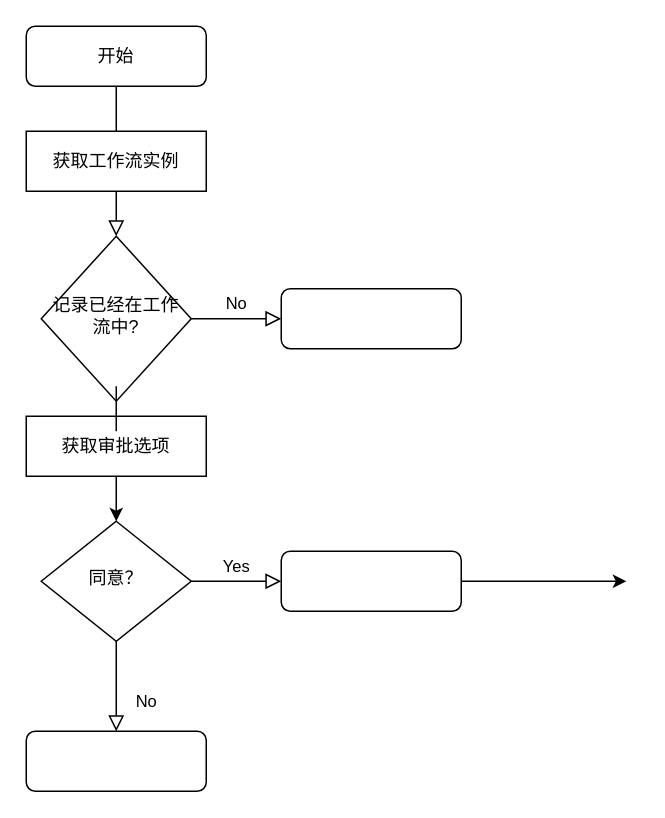
Some shapes in this 665 by 818 pixel diagram are drawn without their labels. Each missing label, with the box of its shape:
什么都不做: (25, 730, 206, 791)
发送工作流: (280, 550, 461, 611)
启动流程: (280, 287, 461, 349)
